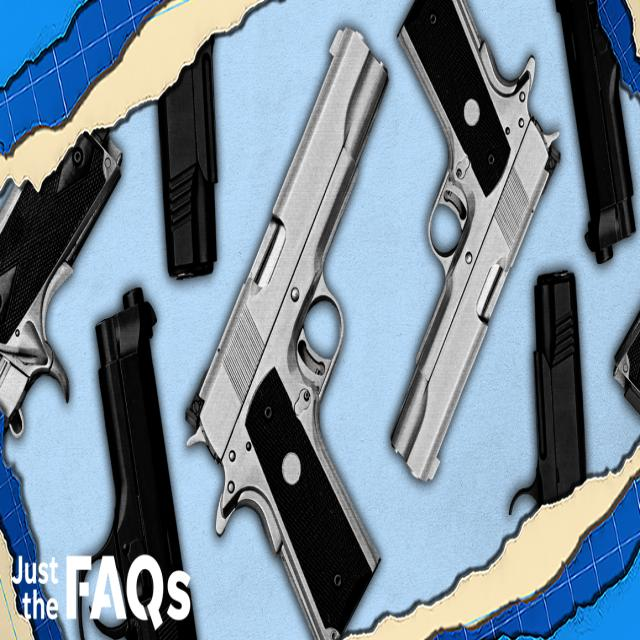Weapon: (186, 28, 387, 640), (391, 0, 559, 480), (91, 288, 196, 640)
